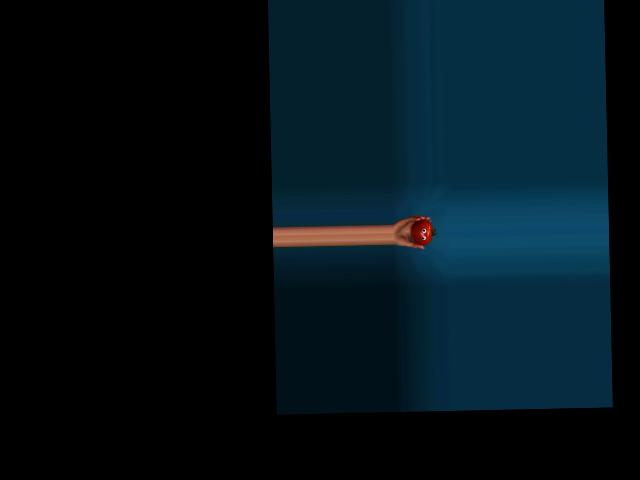tomato: (410, 219, 433, 246)
